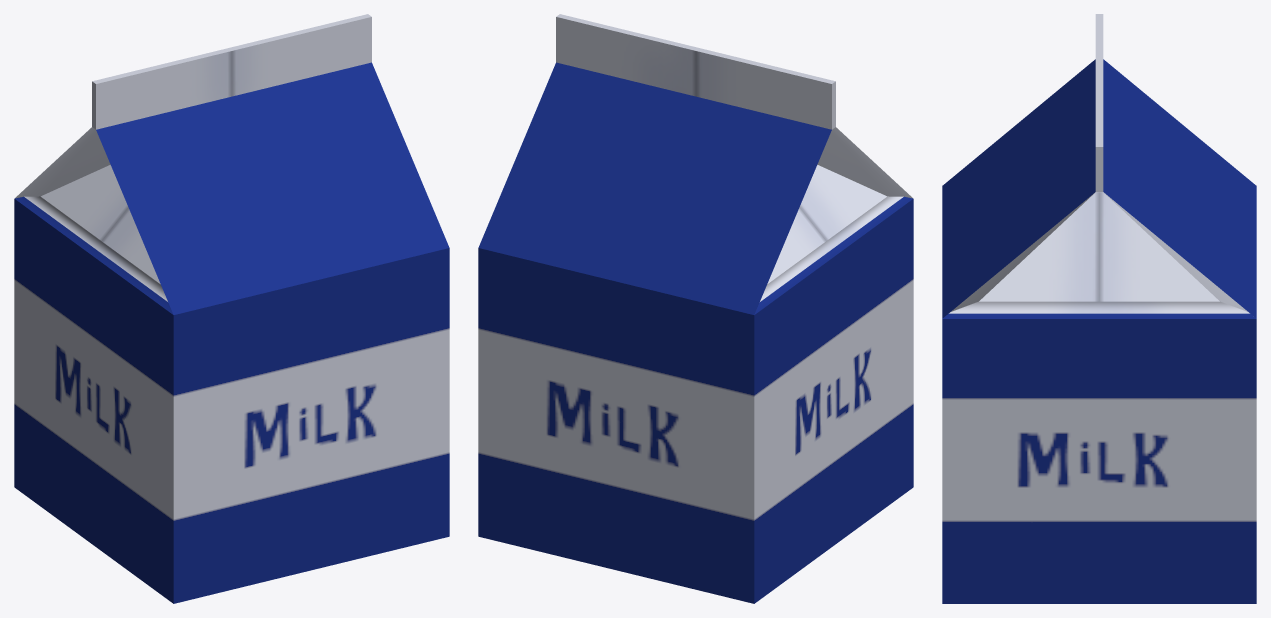
The model's file is milk.fbx.
The picture shows the model from 3 angles, left to right: view 1: azimuth 30°, elevation 25°; view 2: azimuth 150°, elevation 25°; view 3: azimuth 270°, elevation 25°; orthographic projection.
Parts seen in each view (by area): view 1: pCube1; view 2: pCube1; view 3: pCube1.
Part boxes in pixels (bbox=[...]): pCube1: bbox=[14, 14, 449, 603]; pCube1: bbox=[478, 14, 913, 603]; pCube1: bbox=[942, 14, 1256, 603].
Size of the model in its own units: 3.09 by 4.96 by 3.09.
